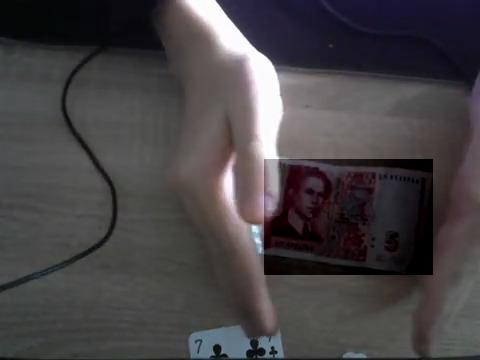5leva: (264, 159, 433, 275)
